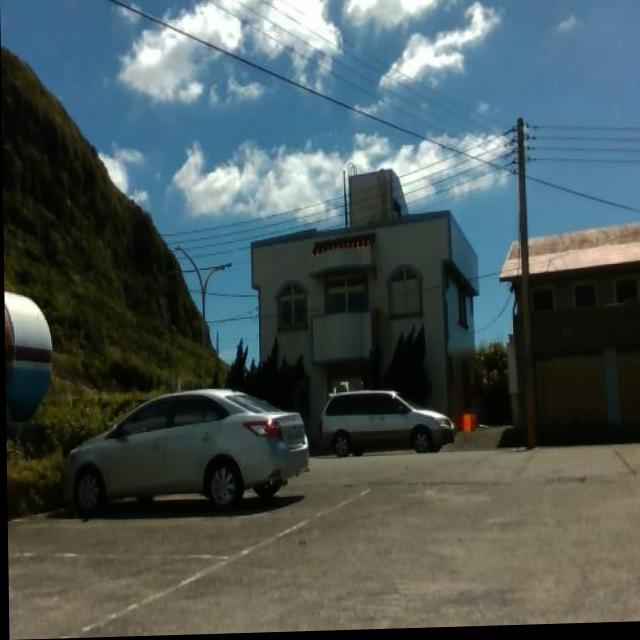pollute: (459, 416, 479, 439)
